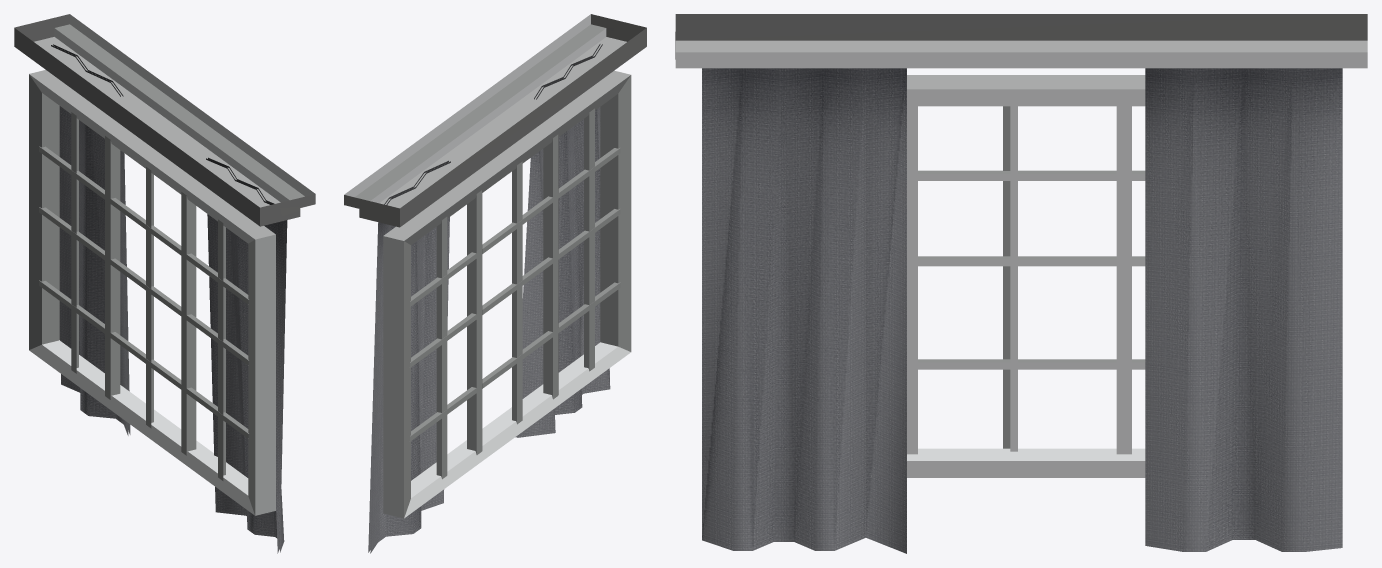
Rendered from M_chuang02.FBX.
3 renders of one model, left to right at view 1: azimuth 30°, elevation 25°; view 2: azimuth 150°, elevation 25°; view 3: azimuth 270°, elevation 25°, orthographic. The views are drawn at different scales.
Parts seen in each view (by area): view 1: M_chuang02_01, M_chuang02_03; view 2: M_chuang02_01, M_chuang02_03; view 3: M_chuang02_03, M_chuang02_01.
Boxes of the visible parts, <box> form: M_chuang02_01: <box>14,14,315,515</box>; M_chuang02_03: <box>51,44,287,553</box>; M_chuang02_01: <box>344,14,646,518</box>; M_chuang02_03: <box>368,44,610,553</box>; M_chuang02_03: <box>702,68,1342,553</box>; M_chuang02_01: <box>675,14,1367,477</box>.
Size of the model in its own units: 0.6334 by 3.91 by 4.84.
